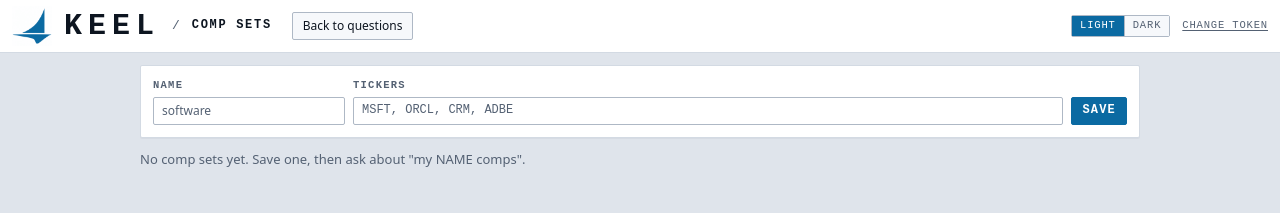
CompSetsPage › asks for a name and a ticker before a save
Check: the text "No comp sets yet. Save one, then ask about \"my NAME comps\"." is shown, box [140, 150, 526, 168]
What coordinates should you click on to do the following:
click the button with test id "compset-save"
I would click on:
 (1099, 111)
Its box is [1071, 97, 1127, 125].
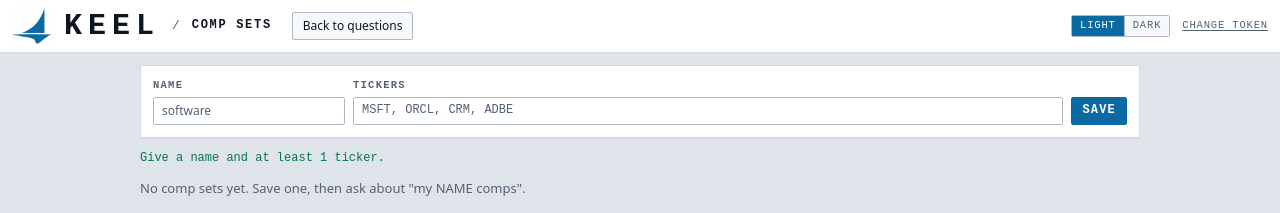
Check: the message with test id "compset-notice" reads "Give a name and at least 1 ticker.", box [140, 151, 385, 165]
